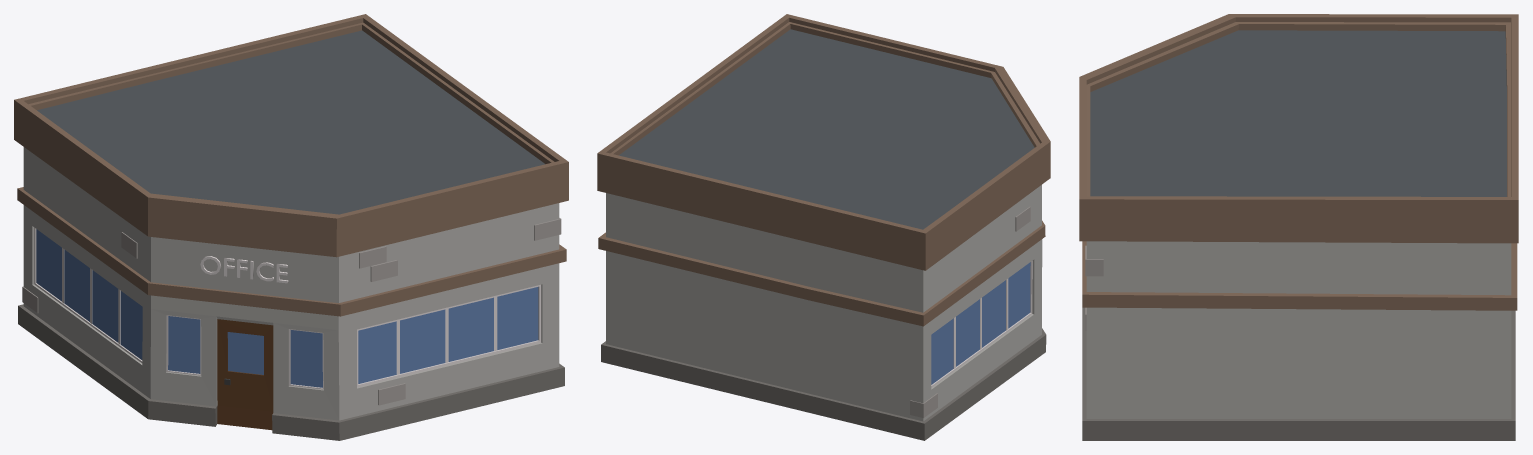
Rendered from Office.fbx.
The picture shows the model from 3 angles, left to right: view 1: azimuth 30°, elevation 25°; view 2: azimuth 150°, elevation 25°; view 3: azimuth 270°, elevation 25°; orthographic projection. The views are drawn at different scales.
Visible parts, largest first — view 1: Office; view 2: Office; view 3: Office.
Part boxes in pixels (x1,y1,x2,y2): Office: (14,14,568,440); Office: (597,14,1050,440); Office: (1079,14,1518,440).
Size of the model in its own units: 14.11 by 8.61 by 14.11.
